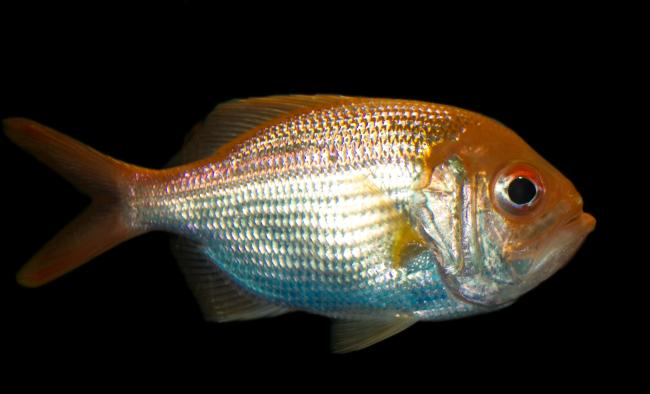fish: (5, 95, 594, 353)
